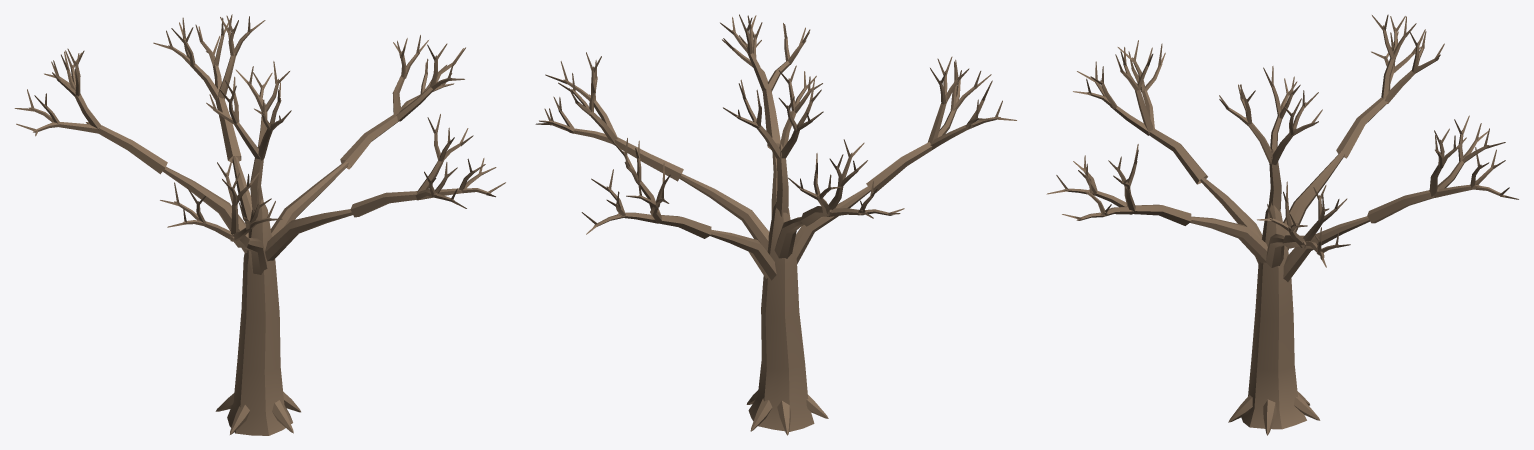
The model's file is tree_broadleaf_bare.glb.
3 views of the same model, side by side, from view 1: azimuth 30°, elevation 25°; view 2: azimuth 150°, elevation 25°; view 3: azimuth 270°, elevation 25° (orthographic). The views are drawn at different scales.
Visible parts, largest first — view 1: Body; view 2: Body; view 3: Body.
Boxes of the visible parts, x1=… form: Body: x1=14, y1=14, x2=505, y2=435; Body: x1=535, y1=14, x2=1016, y2=435; Body: x1=1046, y1=14, x2=1518, y2=435.
Size of the model in its own units: 7.41 by 6.26 by 7.68.
